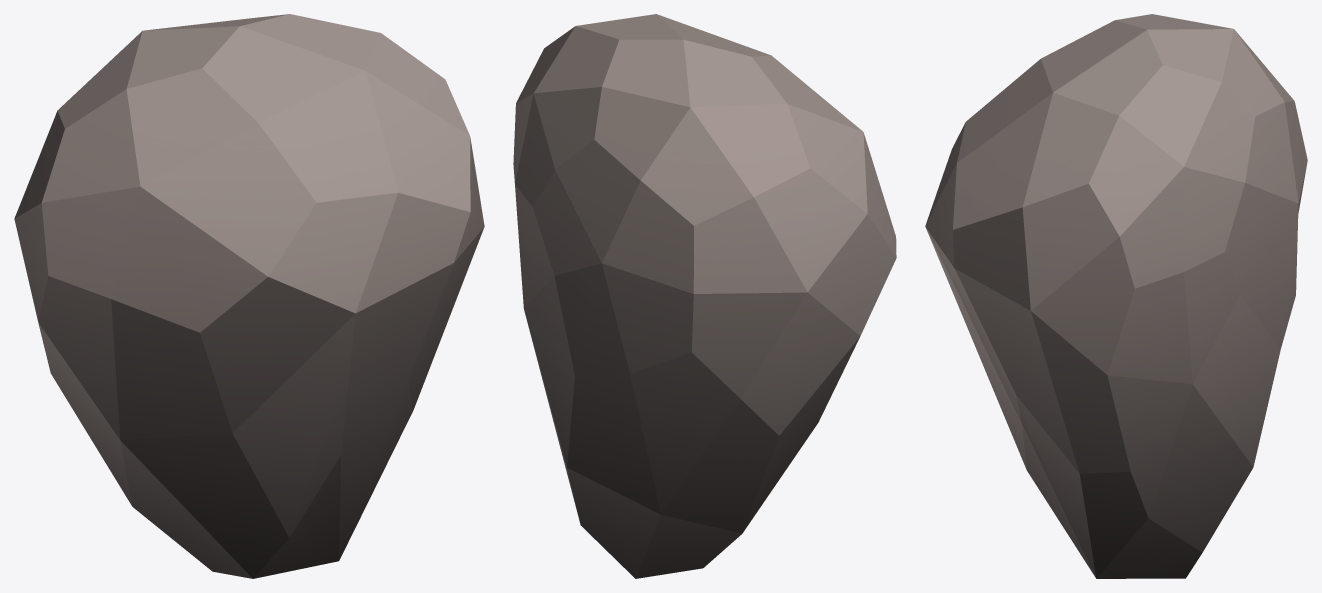
Rendered from Asteroid_1.fbx.
3 views of the same model, side by side, from view 1: azimuth 30°, elevation 25°; view 2: azimuth 150°, elevation 25°; view 3: azimuth 270°, elevation 25° (orthographic). The views are drawn at different scales.
Parts seen in each view (by area): view 1: Asteroid_1; view 2: Asteroid_1; view 3: Asteroid_1.
Part boxes in pixels (bbox=[...]): Asteroid_1: bbox=[14, 14, 484, 578]; Asteroid_1: bbox=[513, 14, 896, 578]; Asteroid_1: bbox=[925, 14, 1307, 578].
Size of the model in its own units: 288 by 385 by 250.
1 material, 1 textured.
